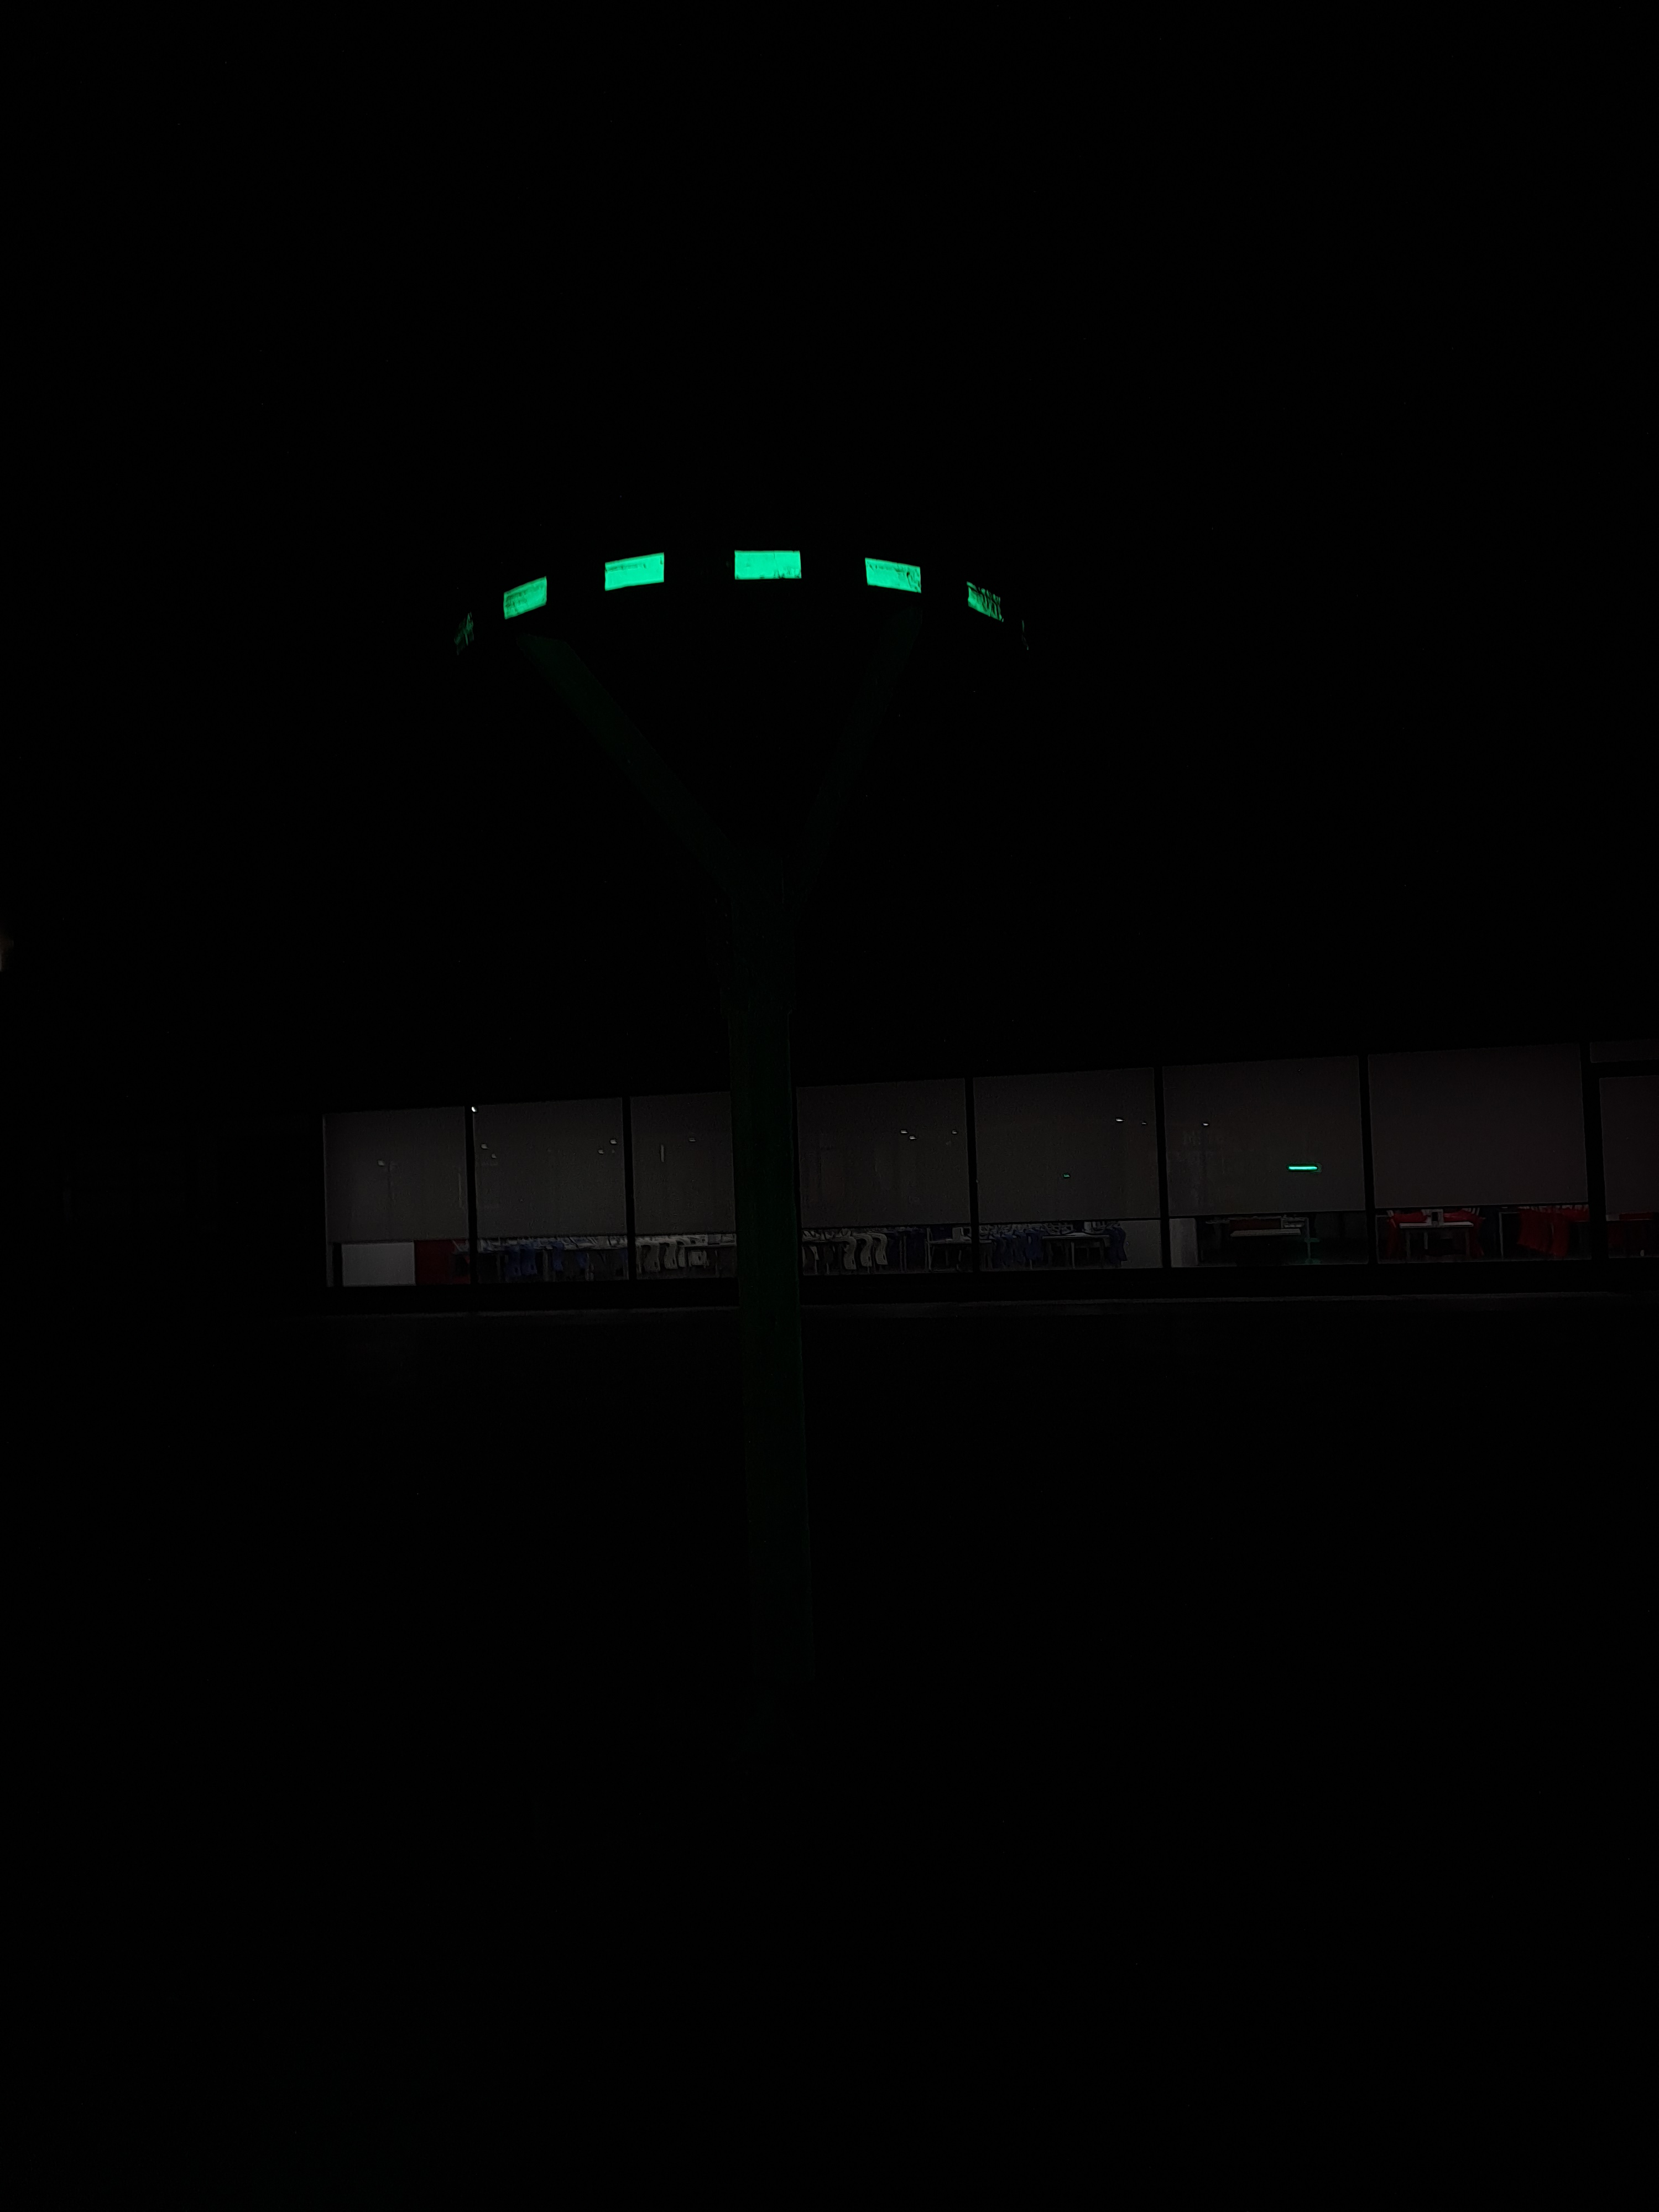hoop: (490, 543, 1012, 632)
